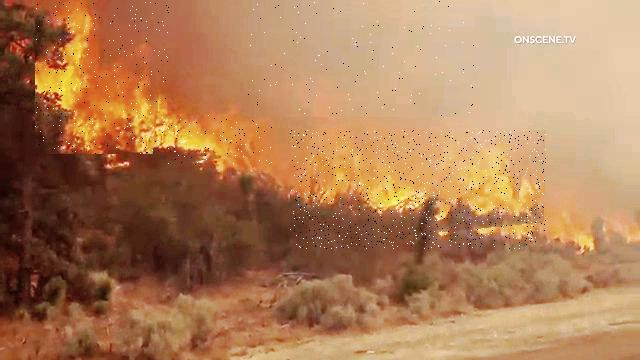fire: (290, 131, 546, 250), (36, 2, 171, 154), (168, 115, 273, 166)
smoke: (248, 1, 475, 117)
